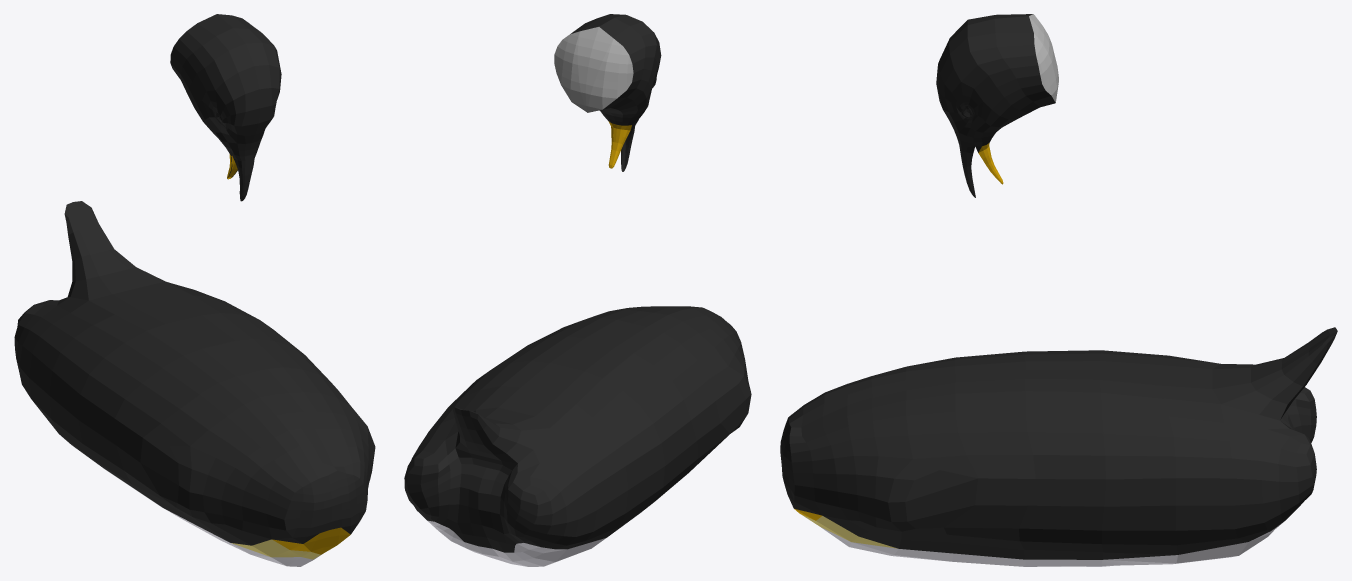
File: penguin_finale.fbx
The picture shows the model from 3 angles, left to right: view 1: azimuth 30°, elevation 25°; view 2: azimuth 150°, elevation 25°; view 3: azimuth 270°, elevation 25°; orthographic projection. The views are drawn at different scales.
Visible parts, largest first — view 1: Corps, Tete; view 2: Corps, Tete; view 3: Corps, Tete.
Part boxes in pixels (x1,y1,x2,y2): Corps: (14,201,375,566); Tete: (170,14,281,201); Corps: (404,306,751,566); Tete: (554,14,661,171); Corps: (780,327,1337,566); Tete: (936,14,1058,197).
Bounding box in the file's own units: 23.62 × 55.1 × 51.26.
